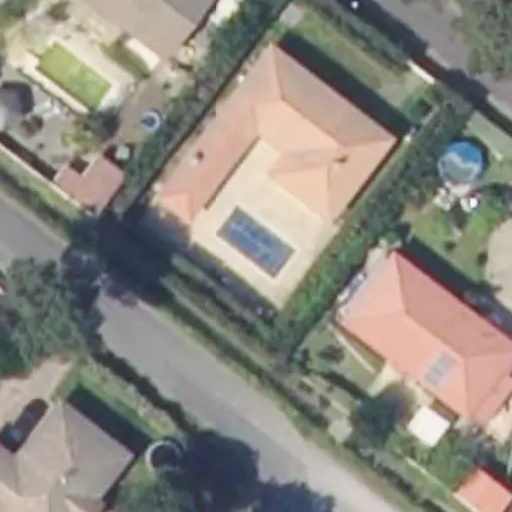pool: (214, 233, 297, 249)
